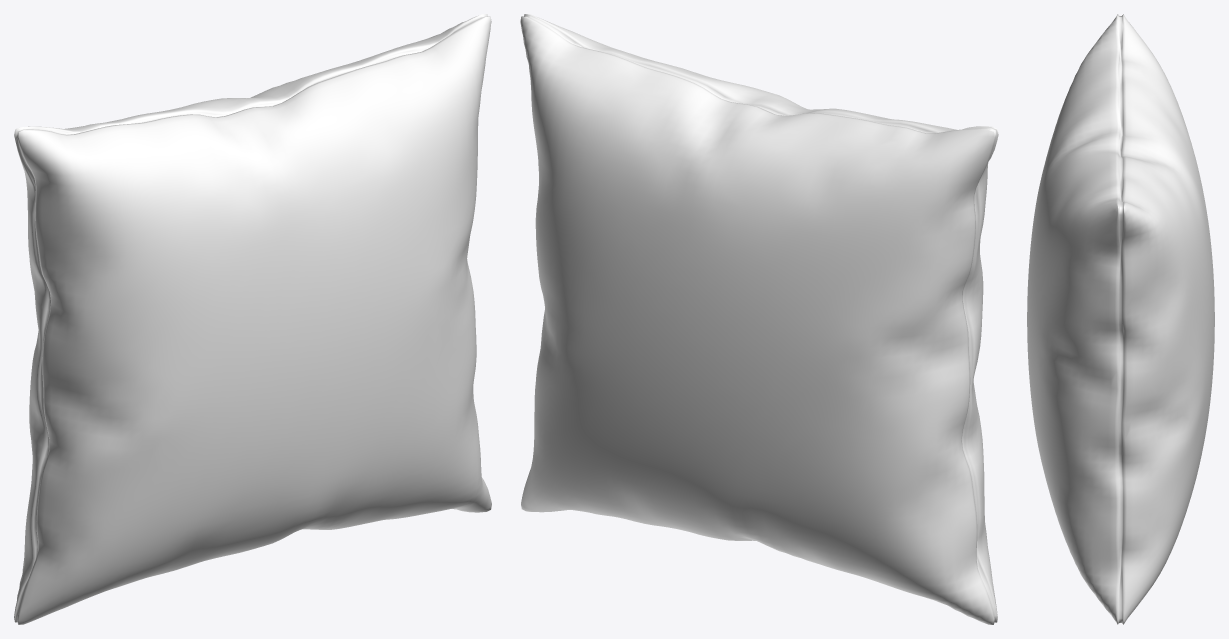
File: cojin3.glb
3 views of the same model, side by side, from view 1: azimuth 30°, elevation 25°; view 2: azimuth 150°, elevation 25°; view 3: azimuth 270°, elevation 25° (orthographic). The views are drawn at different scales.
Parts seen in each view (by area): view 1: Object_2; view 2: Object_2; view 3: Object_2.
Boxes of the visible parts, bbox=[...] form: Object_2: bbox=[14, 14, 491, 624]; Object_2: bbox=[520, 14, 998, 624]; Object_2: bbox=[1027, 14, 1214, 624].
Size of the model in its own units: 1.87 by 1.87 by 0.761.
1 material, 1 textured.
